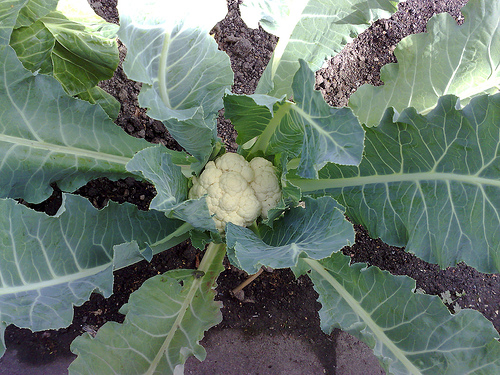cauliflower: (187, 152, 289, 231)
